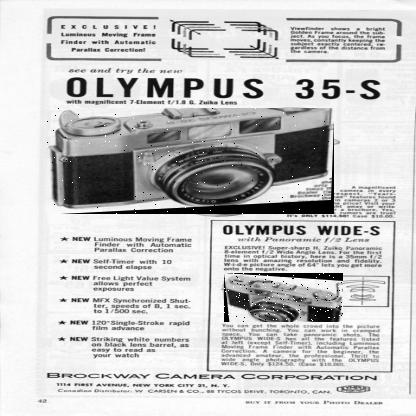Camera: (46, 109, 336, 216), (225, 274, 345, 324)
